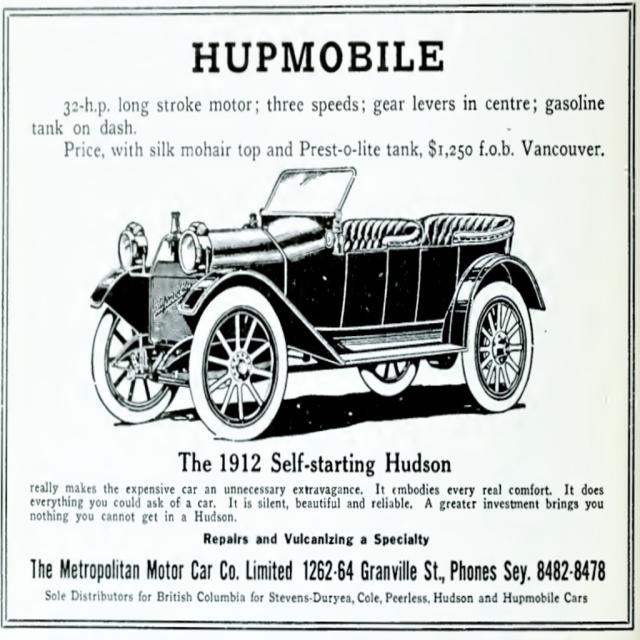car: (70, 161, 545, 450)
